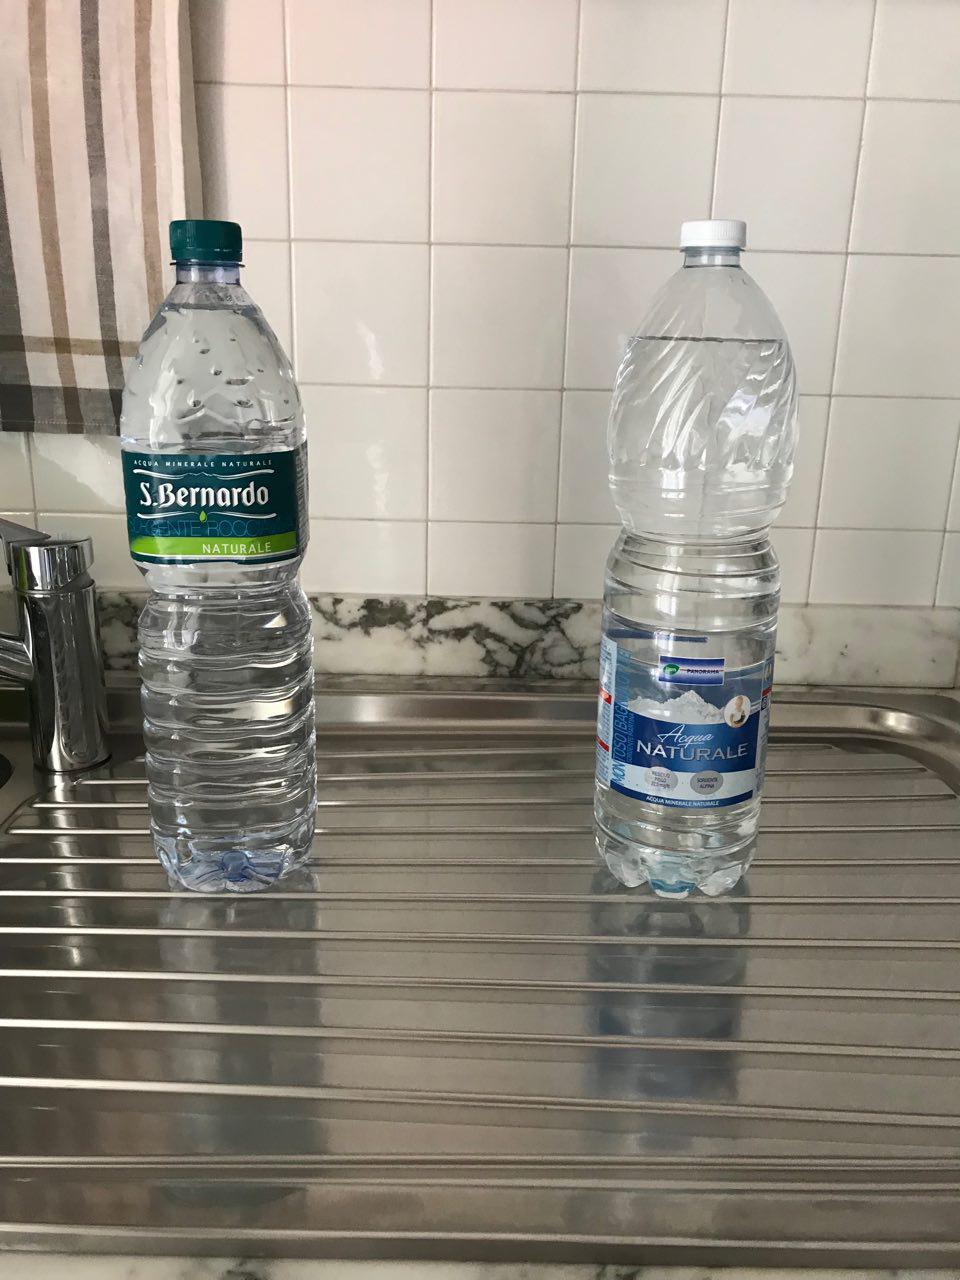san_bernardo: (118, 219, 319, 894)
